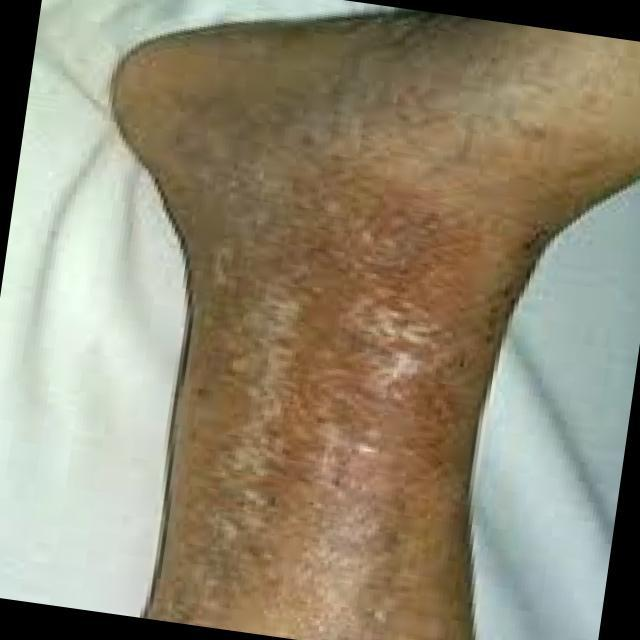Eczema: (212, 155, 464, 610)
